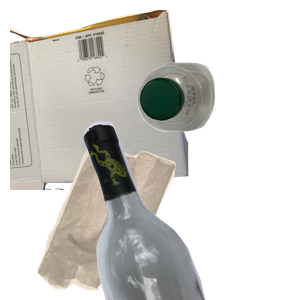cardboard: (10, 10, 191, 190)
glass: (81, 120, 300, 300)
plastic: (135, 60, 300, 184)
trash: (35, 140, 203, 300)
